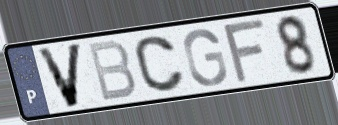8: (277, 13, 318, 77)
B: (85, 39, 139, 104)
C: (132, 34, 187, 95)
F: (221, 16, 269, 87)
G: (181, 27, 230, 88)
V: (34, 41, 85, 111)
